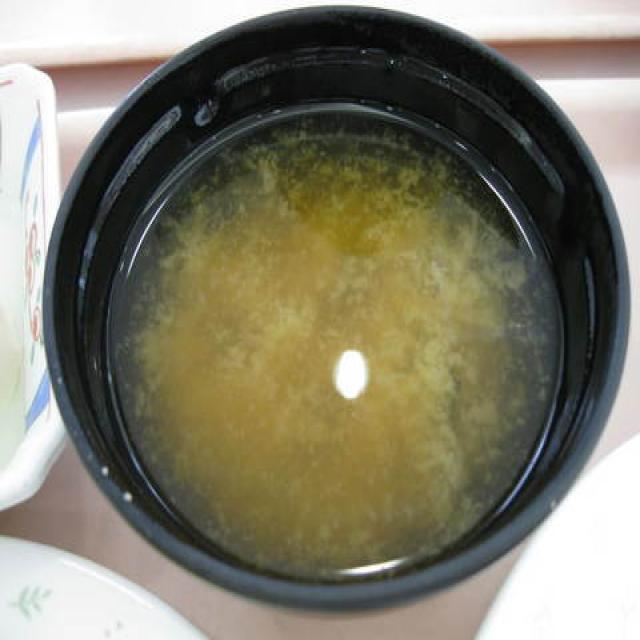汤锅炖物: (61, 101, 568, 550)
